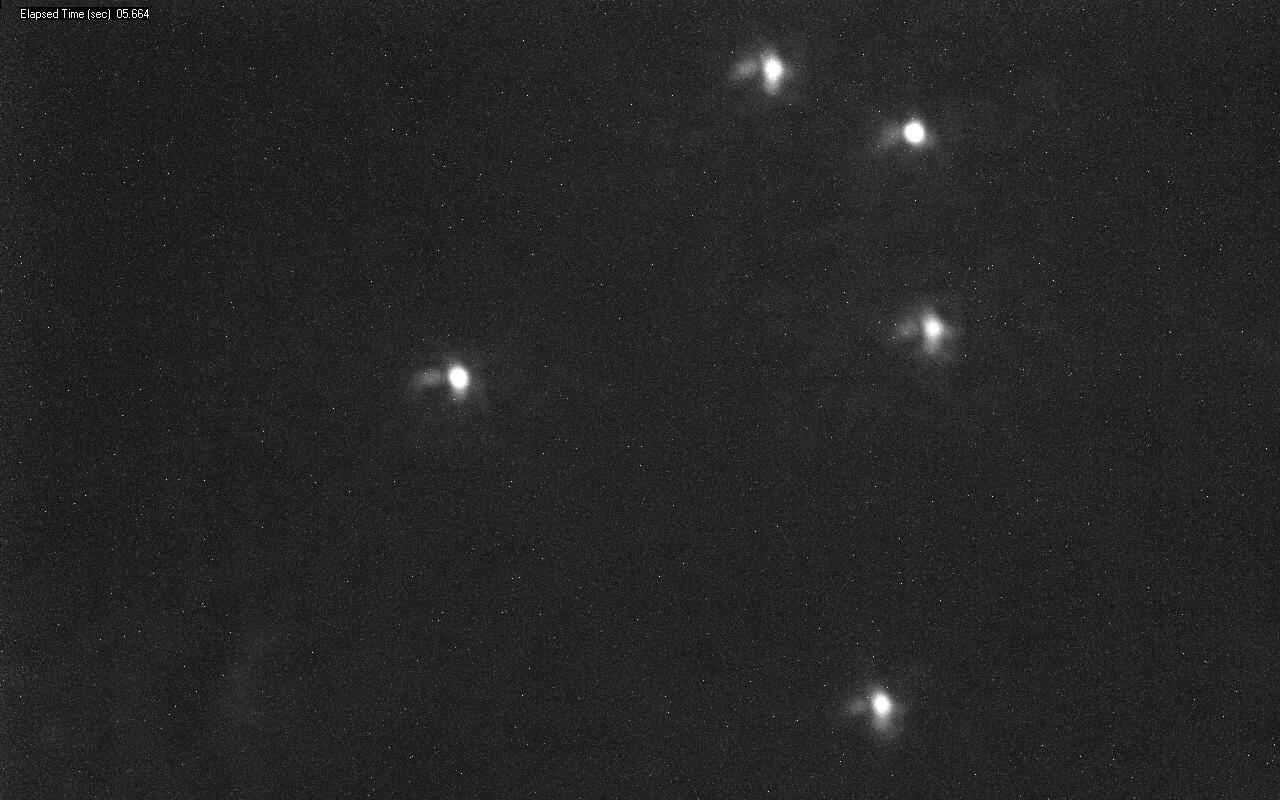Bead: (857, 689, 895, 724), (909, 312, 948, 345), (438, 364, 470, 396), (760, 56, 784, 87), (902, 119, 927, 146)
